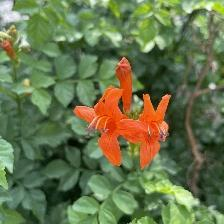honeysuckle: (89, 84, 175, 169)
